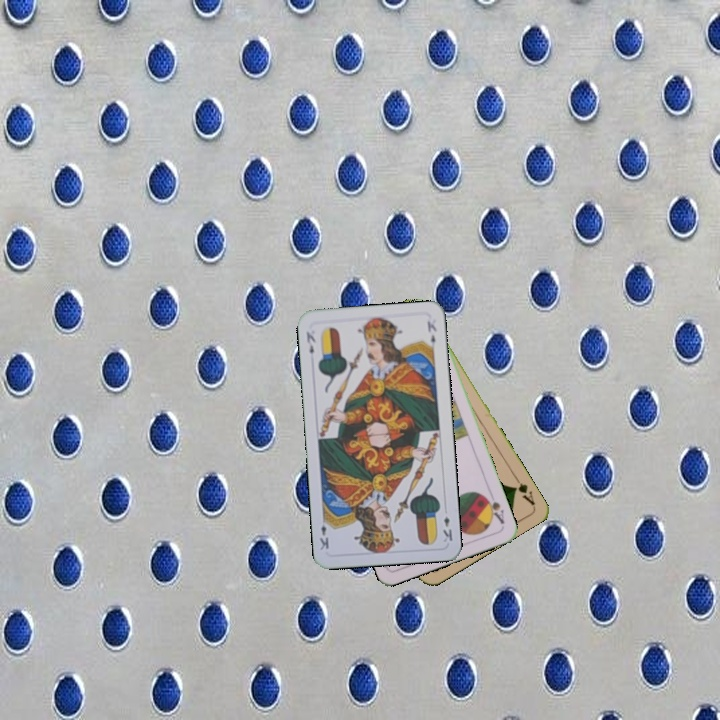EK: (439, 512, 455, 545), (302, 328, 318, 356)
GA: (509, 471, 538, 508)
SA: (480, 491, 507, 527)
